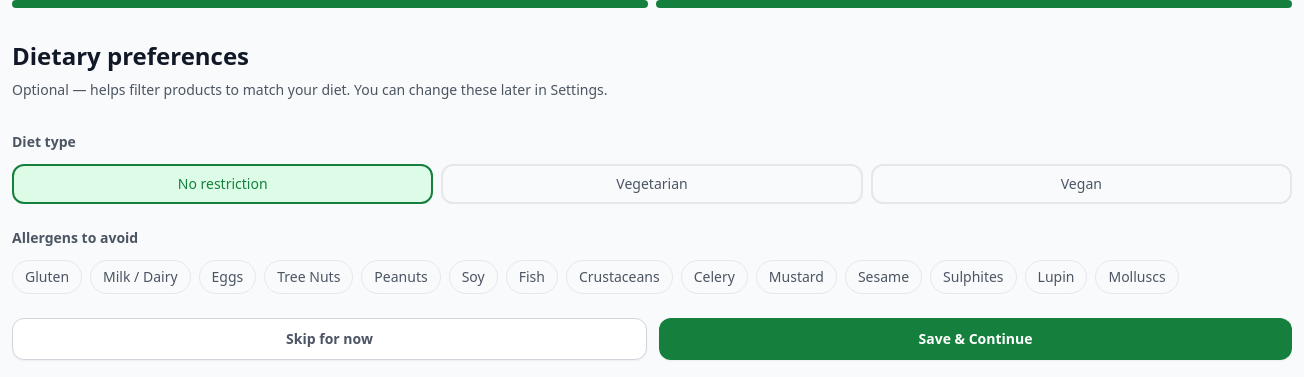
PreferencesForm › shows saving state
Click the button "Save & Continue" at {"x": 976, "y": 339}, box [659,318,1292,360]
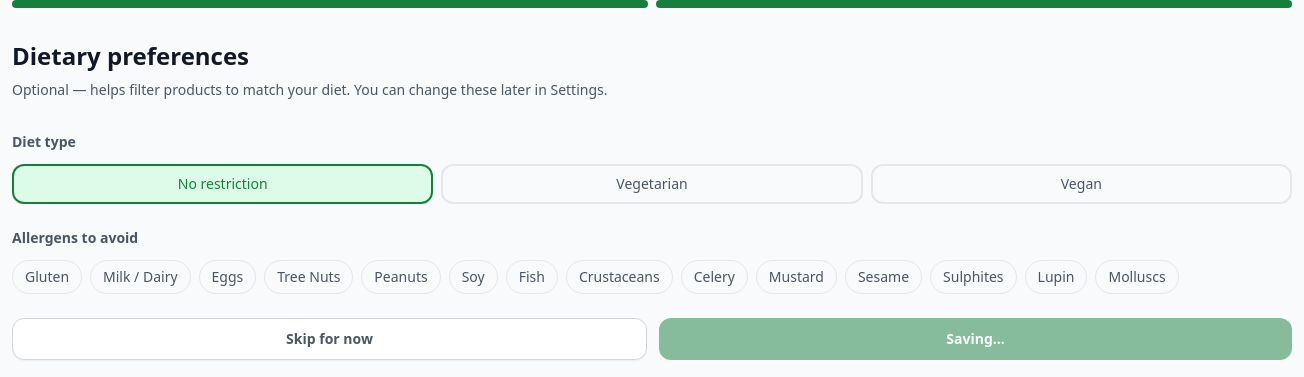
Now the button "Saving…" is shown, box [659,318,1292,360]
